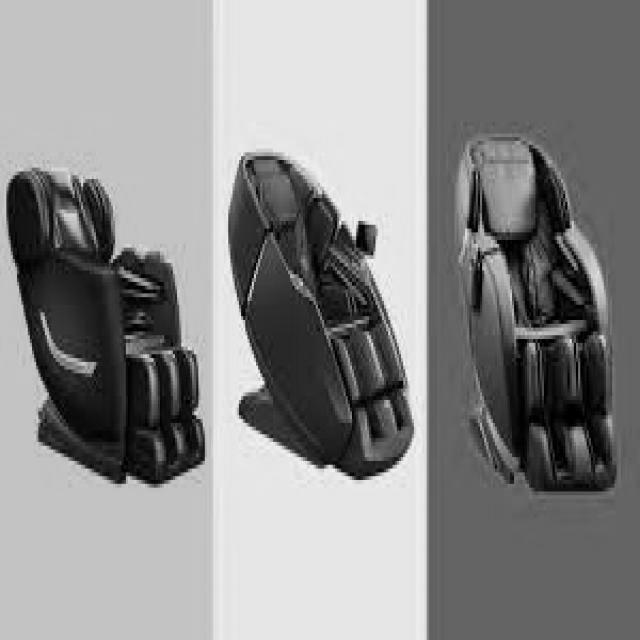chair: (4, 165, 208, 495), (226, 150, 414, 482), (454, 136, 622, 494)
